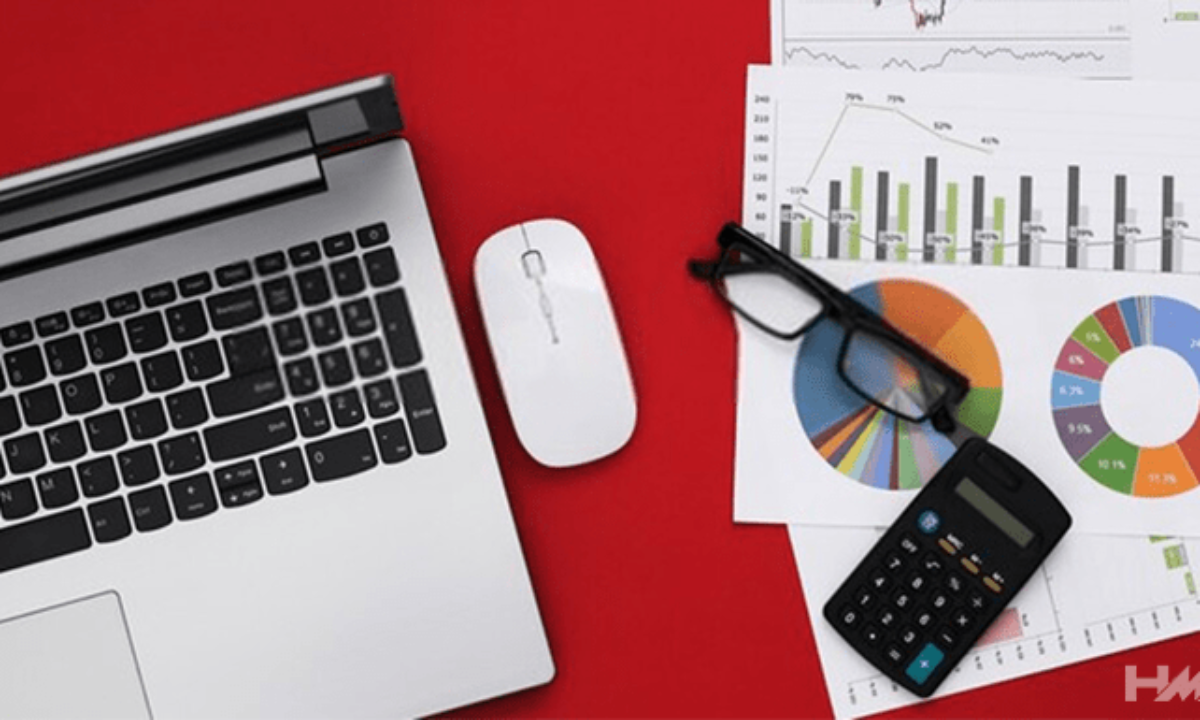Calculator: (821, 433, 1081, 697)
